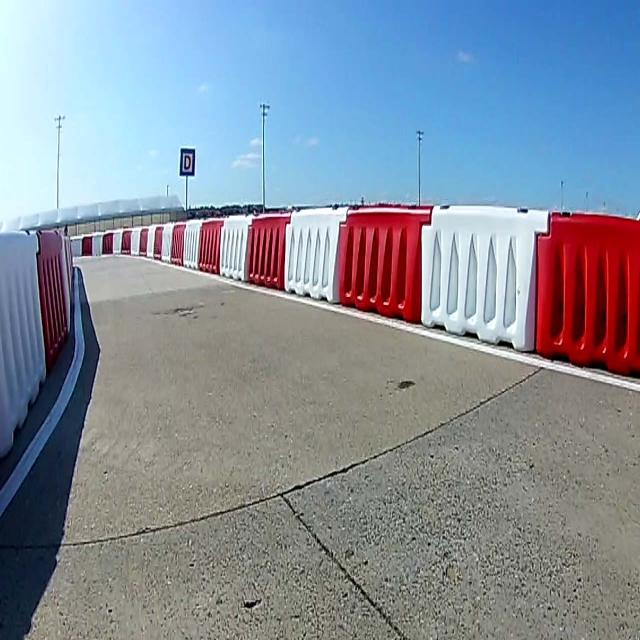durak: (180, 147, 196, 177)
